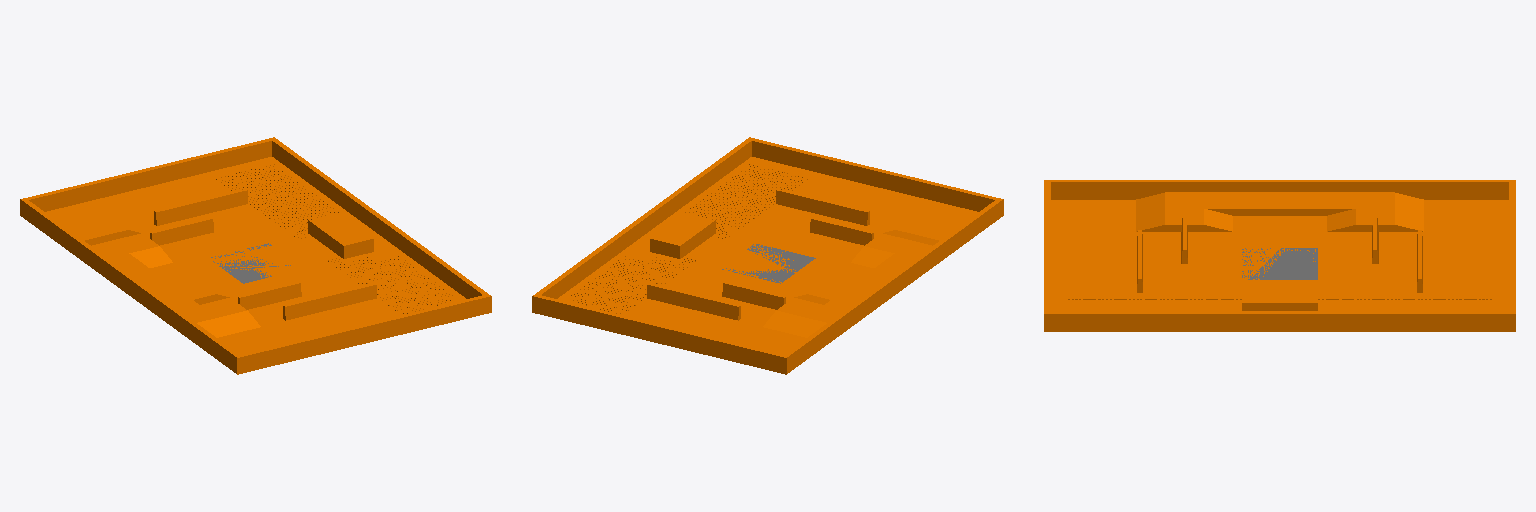
robot.urdf — real_field_assmbly:
<!--URDF generated by ONSHAPE BY PTC INC, 1.222-->
<robot name="real_field_assmbly">
    <link name="centermarker">
        <inertial>
            <mass value="0.1" />
            <origin xyz="-9.02056e-17 -1.49186e-16 -0.0125" rpy="0 -0 0" />
            <inertia ixx="0.0333385" ixy="0" ixz="0" iyy="0.0333385" iyz="0" izz="0.0666667" />
        </inertial>
        <visual>
            <origin xyz="-9.25186e-17 -1.66533e-16 -0.0133884" rpy="0 -0 0" />
            <geometry>
                <mesh filename="package://real_field_assmbly/meshes/CenterMarker.stl" scale="1 1 1" />
            </geometry>
            <material name="0.498039_0.498039_0.498039_0.000000_0.000000">
                <color rgba="0.498039 0.498039 0.498039 1" />
            </material>
        </visual>
    </link>
    <link name="field">
        <inertial>
            <mass value="9.63797" />
            <origin xyz="-0.4651 6.02336e-08 0.137359" rpy="0 -0 0" />
            <inertia ixx="126.573" ixy="-4.49255e-07" ixz="-0.413312" iyy="84.695" iyz="-1.98336e-08" izz="210.845" />
        </inertial>
        <visual>
            <origin xyz="1.35762e-15 -1.9004e-15 -0.0133884" rpy="0 -0 0" />
            <geometry>
                <mesh filename="package://real_field_assmbly/meshes/Field.stl" scale="1 1 1" />
            </geometry>
            <material name="0.972549_0.529412_0.003922_0.000000_0.000000">
                <color rgba="0.972549 0.529412 0.00392157 1" />
            </material>
        </visual>
    </link>
    <link name="root" />
    <joint name="fastened_1" type="fixed">
        <origin xyz="0 0 0" rpy="0 -0 0" />
        <axis xyz="-0 -0 -1" />
        <parent link="root" />
        <child link="field" />
    </joint>
    <joint name="fastened_2" type="fixed">
        <origin xyz="9.25186e-17 1.66533e-16 0" rpy="0 -0 0" />
        <axis xyz="-0 -0 -1" />
        <parent link="root" />
        <child link="centermarker" />
    </joint>
</robot>

--- Render facts (derived) ---
3 views of the same robot in one strip: view 1: azimuth 30°, elevation 25°; view 2: azimuth 150°, elevation 25°; view 3: azimuth 270°, elevation 25° (orthographic).
Robot: real_field_assmbly — 3 links, 2 joints (2 fixed); root link root; default pose: every joint at zero.
Visible links, largest first — view 1: field, centermarker; view 2: field, centermarker; view 3: field, centermarker.
Boxes of the visible links, <box> form: field: <box>20,137,491,374</box>; centermarker: <box>211,243,290,283</box>; field: <box>532,137,1003,374</box>; centermarker: <box>722,244,815,283</box>; field: <box>1044,180,1515,331</box>; centermarker: <box>1242,248,1317,279</box>.
Bounding box of the posed robot: 8.34 × 12.34 × 0.5236 m (x, y, z).
Meshes: 2 distinct files referenced, 2 mesh visuals loaded (2 binary STL).
